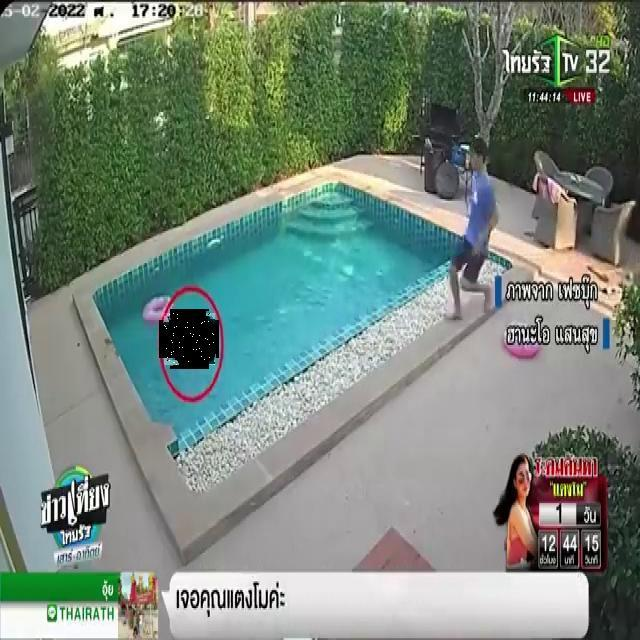Out of Water: (164, 313, 215, 365)
